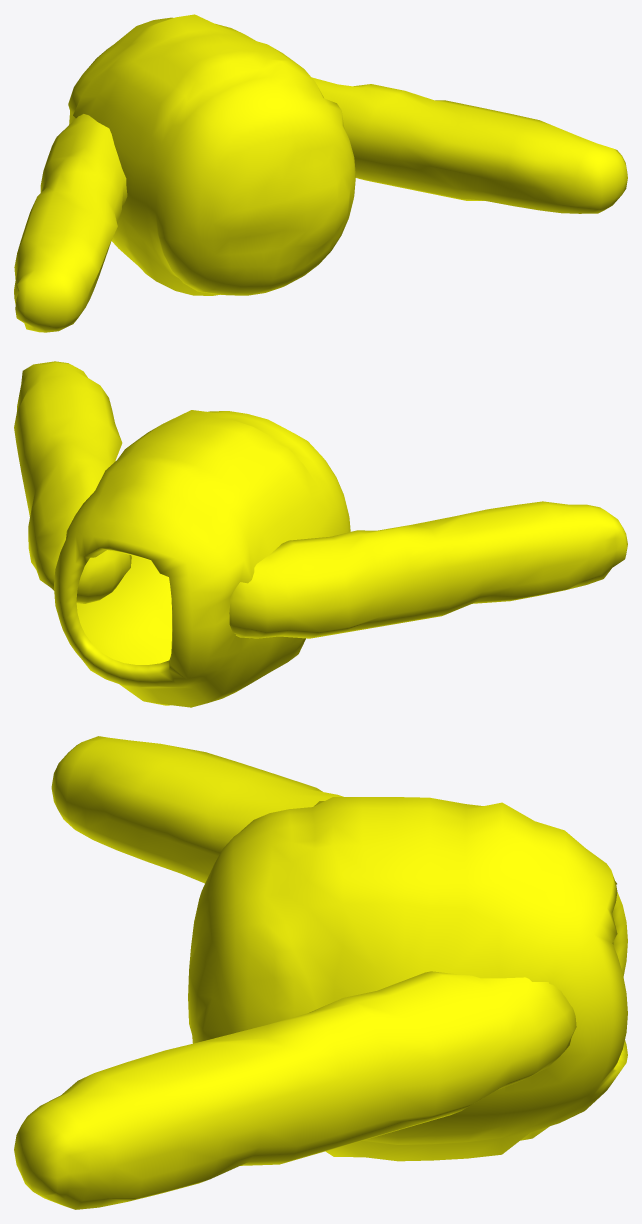
File: item-duck-shirt.glb
3 renders of one model, top to bottom at view 1: azimuth 30°, elevation 25°; view 2: azimuth 150°, elevation 25°; view 3: azimuth 270°, elevation 25°, orthographic. The views are drawn at different scales.
Bounding box in the file's own units: 0.4077 × 0.1554 × 0.2548.
